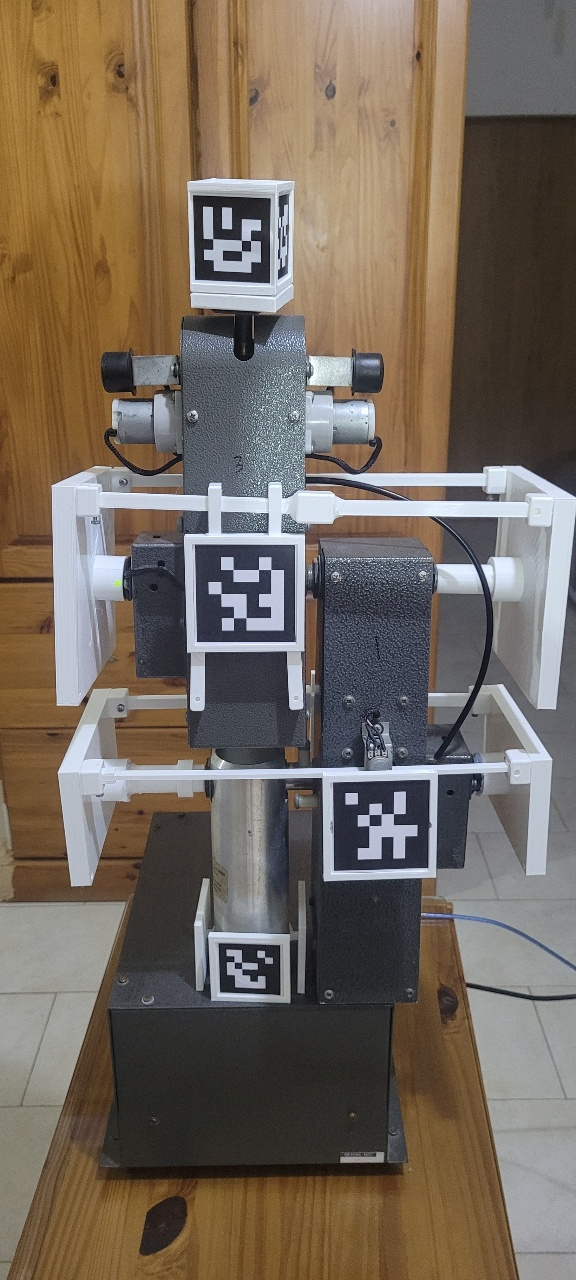Robot: (114, 209, 576, 971)
